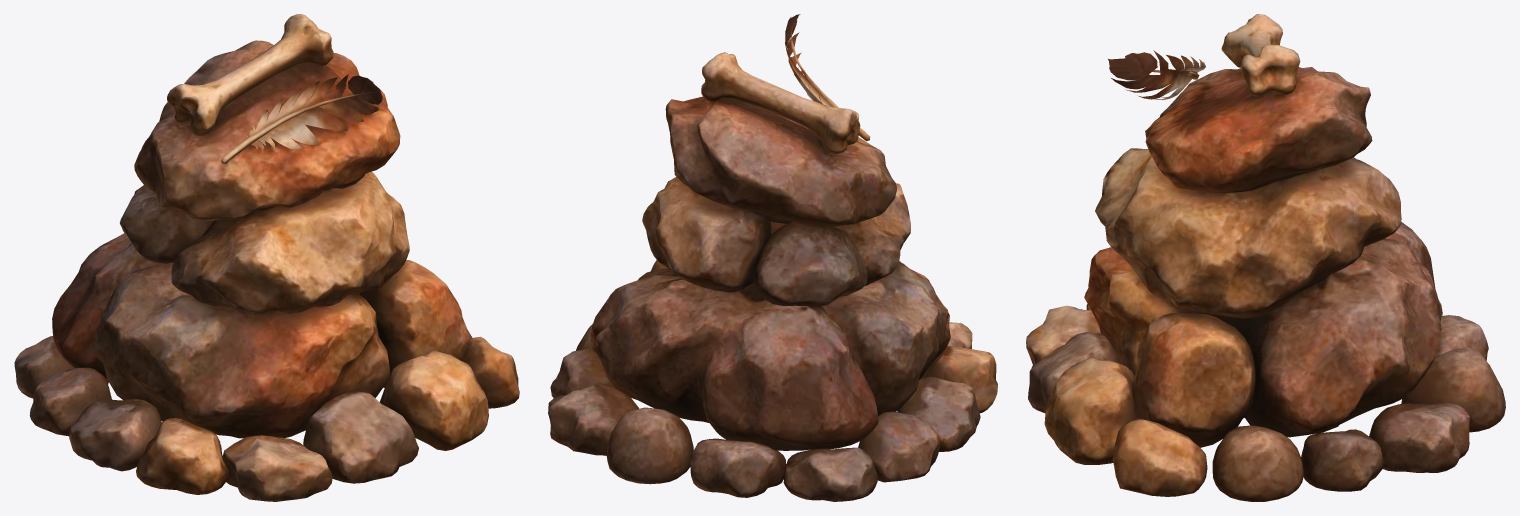
Rendered from shrine-t1.glb.
3 views of the same model, side by side, from view 1: azimuth 30°, elevation 25°; view 2: azimuth 150°, elevation 25°; view 3: azimuth 270°, elevation 25° (orthographic). The views are drawn at different scales.
Visible parts, largest first — view 1: tripo_node_5b6ffa38-d295-4b86-a1f0-25020c222595; view 2: tripo_node_5b6ffa38-d295-4b86-a1f0-25020c222595; view 3: tripo_node_5b6ffa38-d295-4b86-a1f0-25020c222595.
Boxes of the visible parts, x1,y1,x2,y2 form: tripo_node_5b6ffa38-d295-4b86-a1f0-25020c222595: (14, 14, 519, 501); tripo_node_5b6ffa38-d295-4b86-a1f0-25020c222595: (548, 14, 997, 501); tripo_node_5b6ffa38-d295-4b86-a1f0-25020c222595: (1026, 14, 1505, 501).
Size of the model in its own units: 0.9995 by 0.879 by 0.9995.
1 material, 1 textured.
